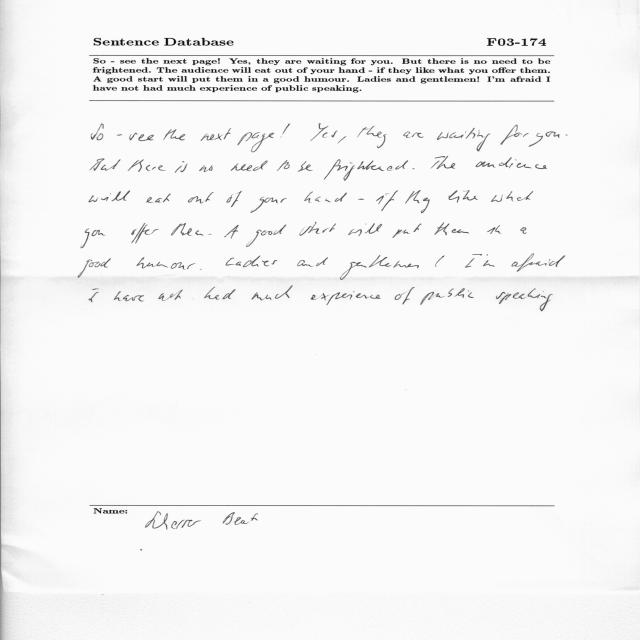word: (340, 255, 419, 280), (324, 159, 408, 181), (496, 288, 553, 311), (437, 128, 490, 151), (311, 291, 381, 305), (512, 254, 565, 272), (420, 288, 474, 305), (246, 225, 286, 247), (476, 157, 548, 169), (137, 257, 196, 270), (237, 132, 274, 152), (357, 126, 387, 148), (78, 258, 111, 278), (251, 197, 287, 213), (405, 191, 430, 214), (252, 286, 293, 300), (226, 256, 278, 267), (501, 125, 529, 145), (131, 223, 159, 243), (304, 191, 347, 203), (300, 222, 336, 236), (128, 159, 166, 172), (89, 191, 130, 203), (529, 131, 559, 147), (81, 229, 105, 249), (376, 190, 398, 211), (491, 191, 533, 202), (311, 124, 338, 141), (434, 222, 469, 235), (348, 223, 382, 236), (393, 223, 422, 238), (171, 223, 204, 236), (204, 287, 236, 300), (90, 158, 121, 171), (201, 128, 231, 141), (448, 190, 478, 203), (231, 161, 268, 171), (395, 287, 415, 305), (431, 156, 456, 169), (297, 257, 328, 267), (114, 292, 144, 302), (188, 193, 214, 204), (158, 290, 183, 301), (226, 191, 242, 207), (164, 130, 186, 141), (465, 254, 482, 268), (146, 194, 171, 203), (91, 124, 104, 141), (224, 225, 239, 239), (129, 133, 154, 141), (298, 161, 313, 172), (175, 161, 188, 173), (483, 254, 495, 267), (403, 131, 424, 138), (277, 160, 290, 171), (89, 289, 99, 302), (281, 124, 290, 138), (488, 225, 502, 234), (435, 256, 445, 267), (199, 165, 213, 172), (338, 136, 347, 144), (520, 227, 527, 234), (117, 134, 122, 136), (358, 199, 364, 200), (412, 169, 415, 170), (209, 234, 212, 235), (566, 135, 568, 136), (200, 269, 202, 270), (543, 291, 544, 292)
